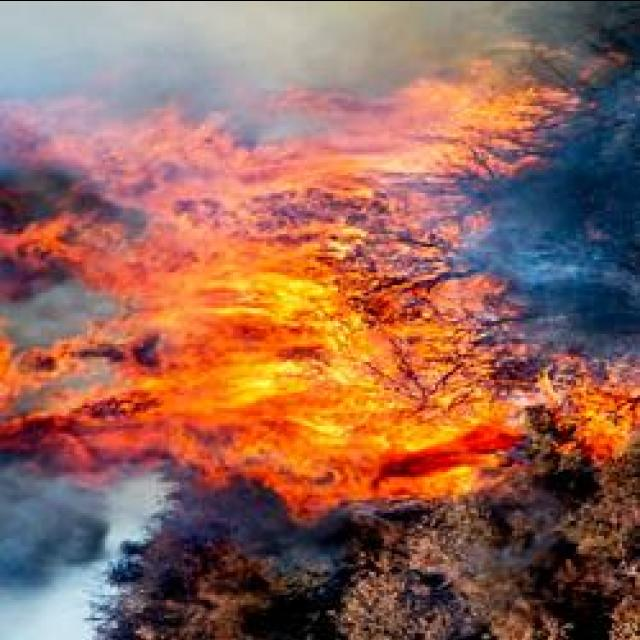fire: (194, 270, 318, 332), (566, 358, 640, 461), (176, 349, 290, 411)
smoke: (6, 0, 320, 104), (3, 488, 109, 584)
